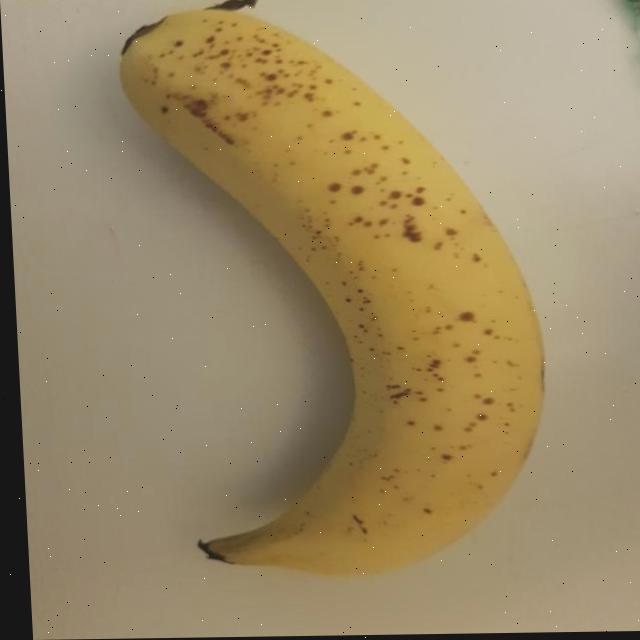banana: (110, 0, 562, 582)
